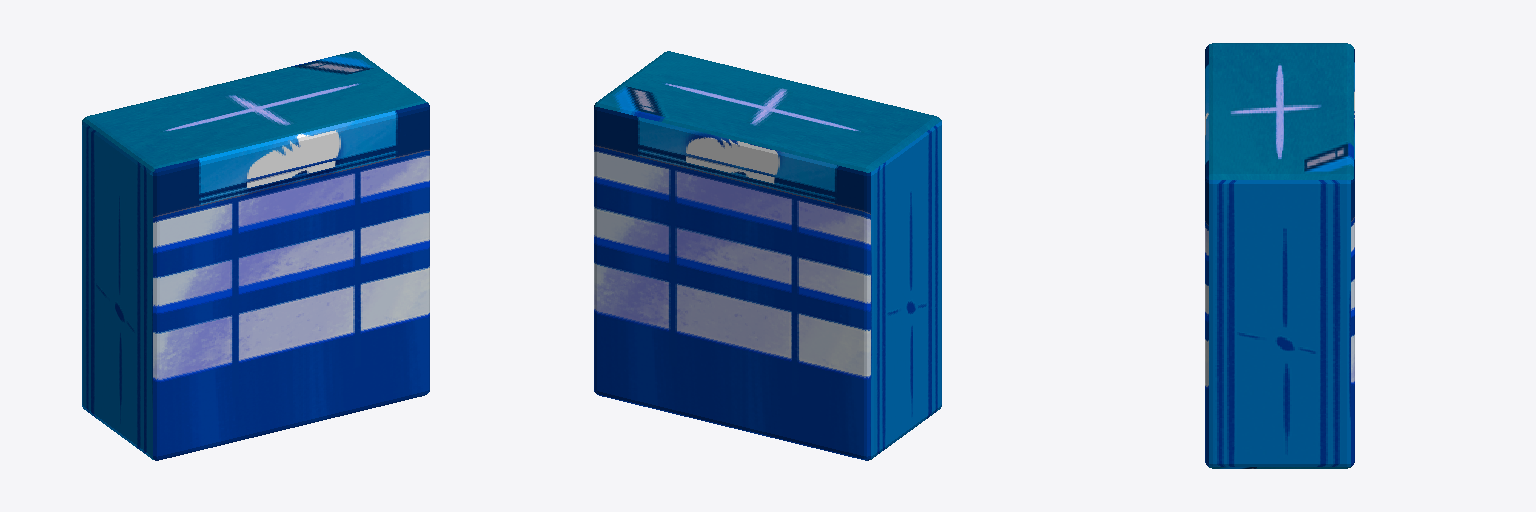
3 renders of one model, left to right at view 1: azimuth 30°, elevation 25°; view 2: azimuth 150°, elevation 25°; view 3: azimuth 270°, elevation 25°, orthographic.
Parts seen in each view (by area): view 1: pCube3; view 2: pCube3; view 3: pCube3.
Boxes of the visible parts, x1,y1,x2,y2 form: pCube3: [82, 51, 429, 460]; pCube3: [594, 51, 941, 460]; pCube3: [1205, 43, 1354, 468].
Bounding box in the file's own units: 1.05 × 1.05 × 0.4857.
Materials: 1 (1 with a texture image).